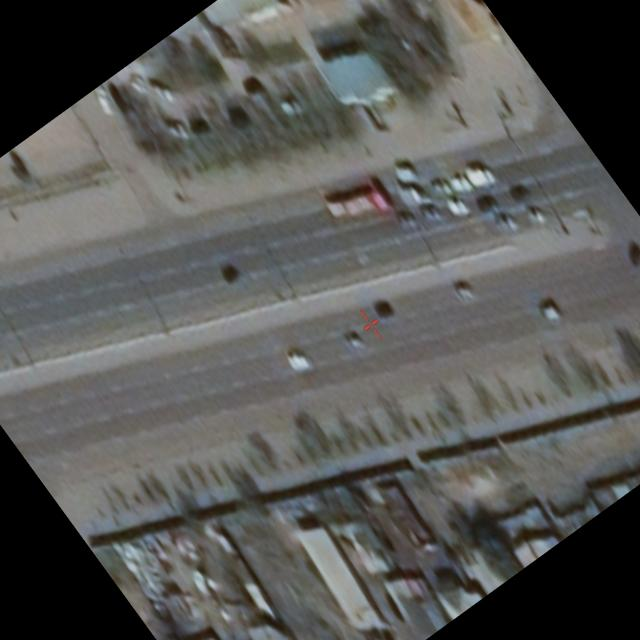damage: (113, 533, 254, 611)
road: (0, 62, 640, 455)
